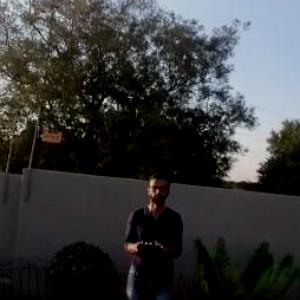follow: (118, 162, 187, 299)
